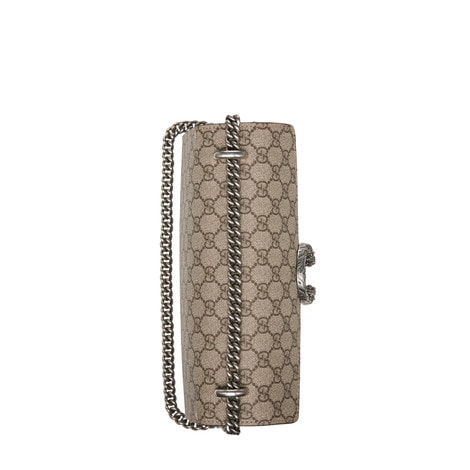Gucci: (159, 100, 327, 441), (242, 160, 290, 412), (288, 229, 327, 314)
